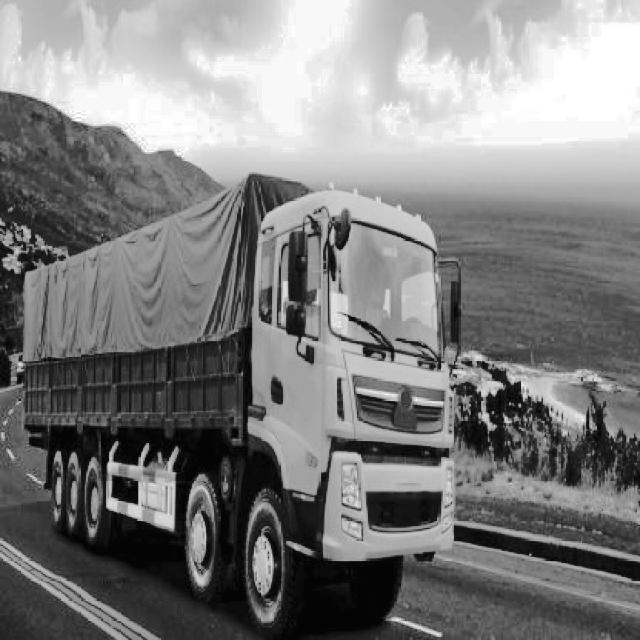HCV: (26, 242, 472, 604)
